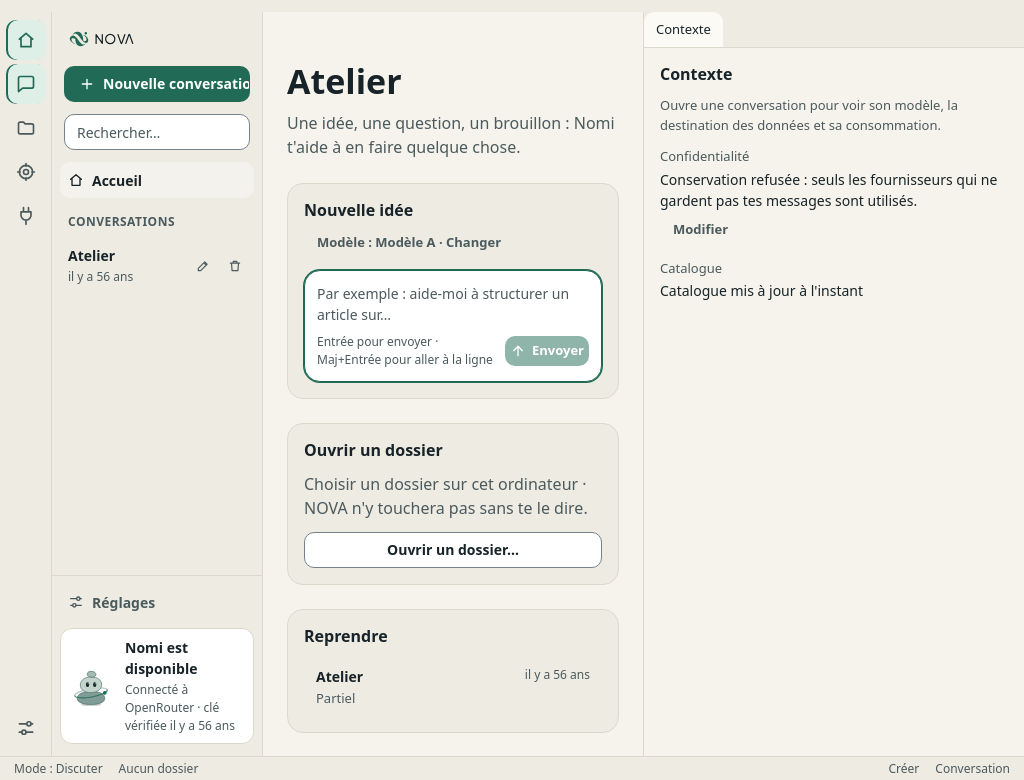
Scenario: new provider outcomes › truncated has French copy and its follow-up
The image size is (1024, 780).
Click the button "Atelier il y a 56 ans".
click(124, 266)  # box [60,237,188,294]
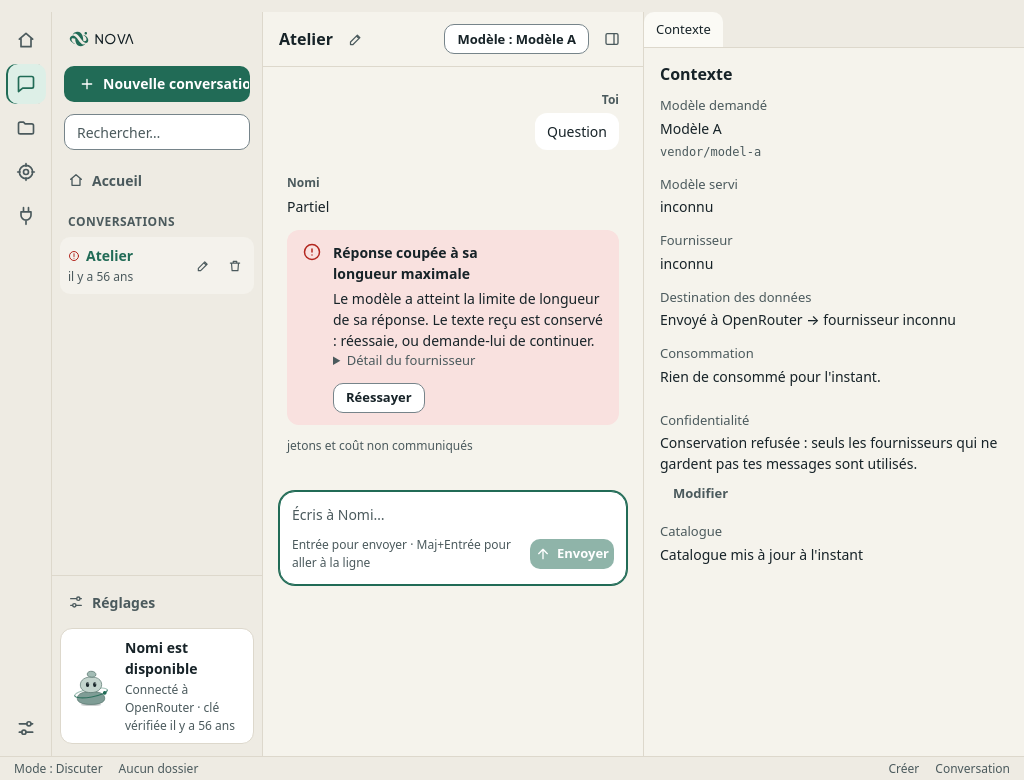
Expected: the text "Réponse coupée à sa longueur maximale" is shown, [333,243,478,283]
Expected: the button "Réessayer" is shown, [333,383,425,413]
